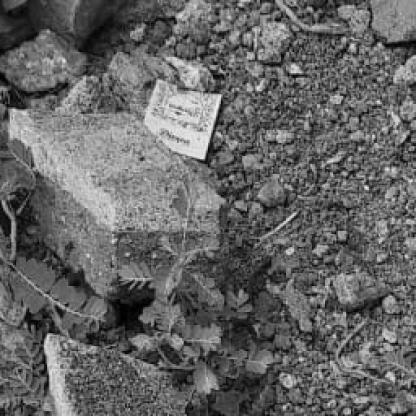brick: (0, 0, 222, 300), (43, 332, 189, 414)
cementitious_debris: (85, 1, 414, 414), (289, 0, 352, 24)
